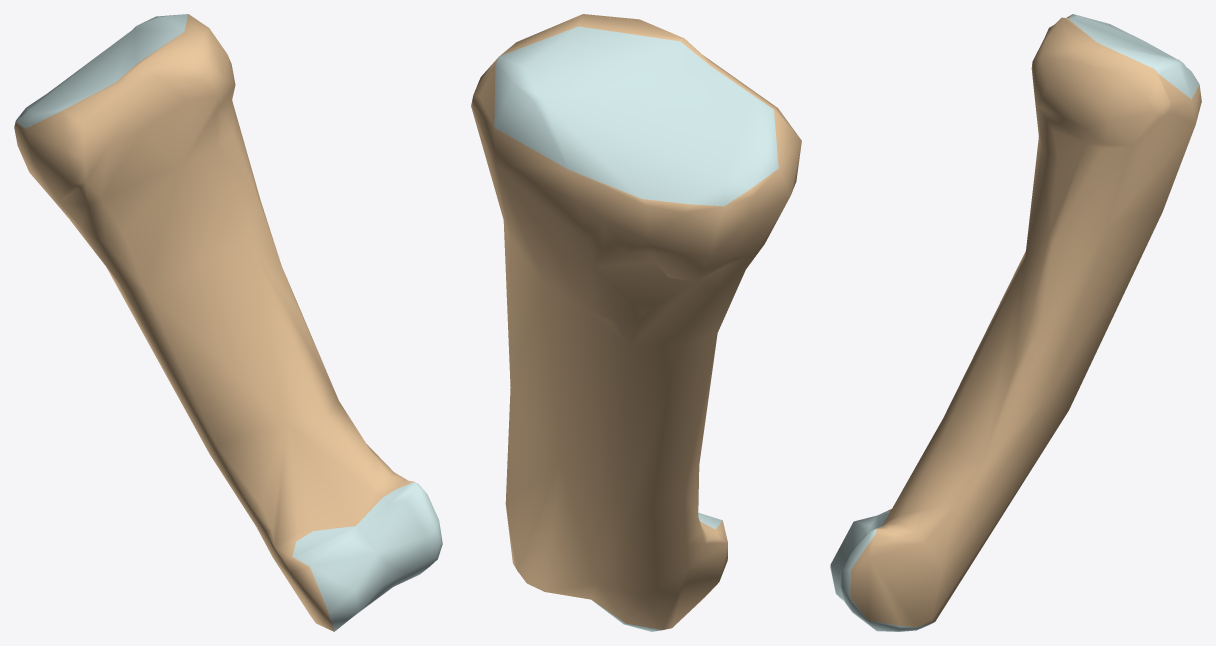
The model's file is Phalanx_proximal_2nd_finger_left.glb.
3 renders of one model, left to right at view 1: azimuth 30°, elevation 25°; view 2: azimuth 150°, elevation 25°; view 3: azimuth 270°, elevation 25°, orthographic. The views are drawn at different scales.
Visible parts, largest first — view 1: Proximal_phalanx_of_2d_finger.l_Generated_Mesh_From_X3D.709; view 2: Proximal_phalanx_of_2d_finger.l_Generated_Mesh_From_X3D.709; view 3: Proximal_phalanx_of_2d_finger.l_Generated_Mesh_From_X3D.709.
Boxes of the visible parts, x1,y1,x2,y2 form: Proximal_phalanx_of_2d_finger.l_Generated_Mesh_From_X3D.709: (14,14,442,631); Proximal_phalanx_of_2d_finger.l_Generated_Mesh_From_X3D.709: (471,14,801,631); Proximal_phalanx_of_2d_finger.l_Generated_Mesh_From_X3D.709: (830,14,1201,631).
Size of the model in its own units: 0.0227 by 0.0389 by 0.0237.
